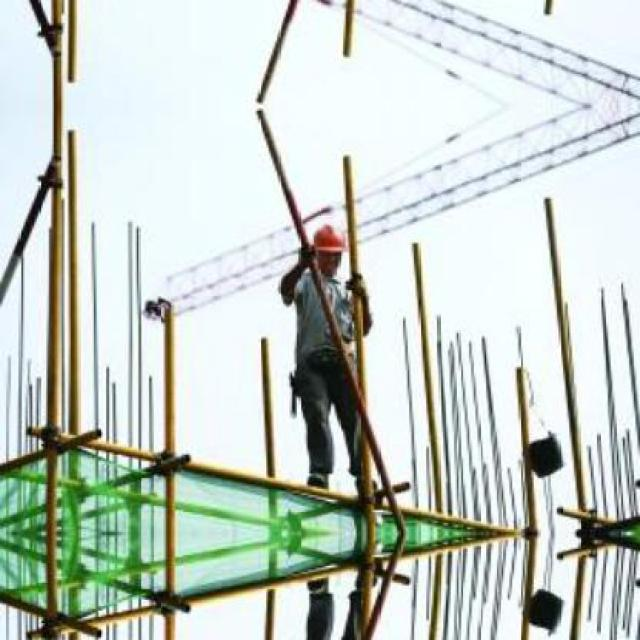helmet: (306, 220, 346, 278)
